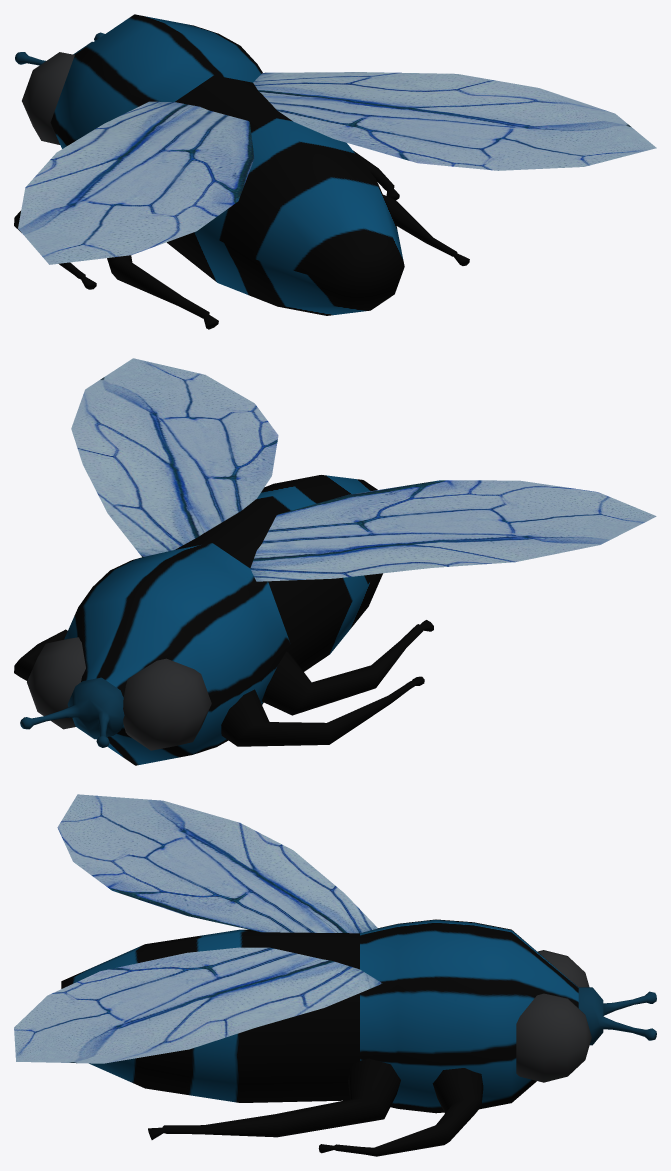
The model's file is 36_machi.fbx.
The picture shows the model from 3 angles, top to bottom: view 1: azimuth 30°, elevation 25°; view 2: azimuth 150°, elevation 25°; view 3: azimuth 270°, elevation 25°; orthographic projection. The views are drawn at different scales.
Parts seen in each view (by area): view 1: Machi; view 2: Machi; view 3: Machi.
Boxes of the visible parts, box(x1,y1,x2,y2) form: Machi: box(14, 14, 656, 329); Machi: box(14, 358, 656, 765); Machi: box(14, 794, 656, 1156).
Size of the model in its own units: 20.88 by 6.75 by 21.06.
